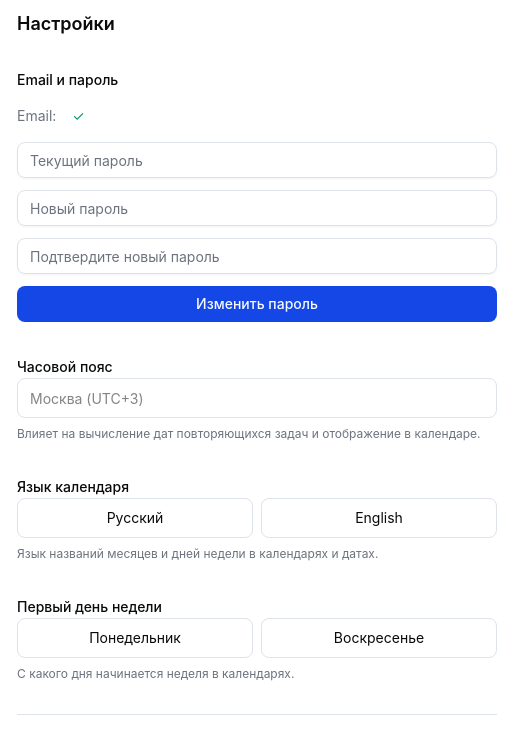
Test case: settingsView — выбор часового пояса › по умолчанию показывает популярные зоны (Москва)
Step 1. Focus the field with placeholder "Москва (UTC+3)" → (257, 398), box [17,378,497,418]
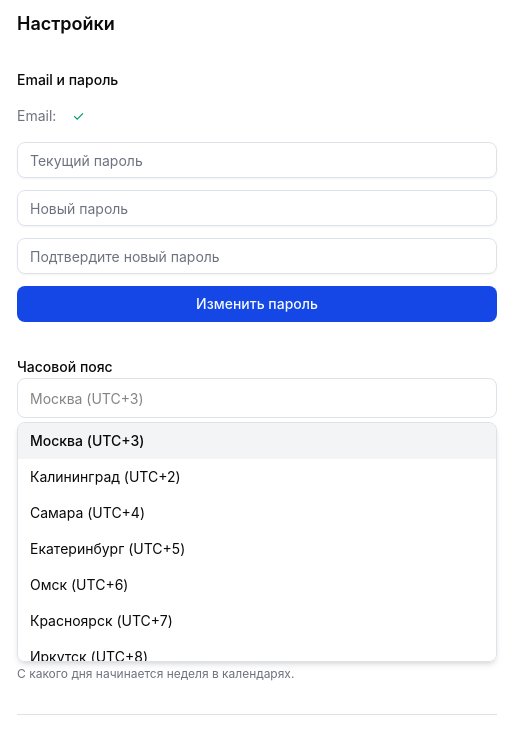
Now the text "Москва (UTC+3)" is shown, box [18,423,496,459]
